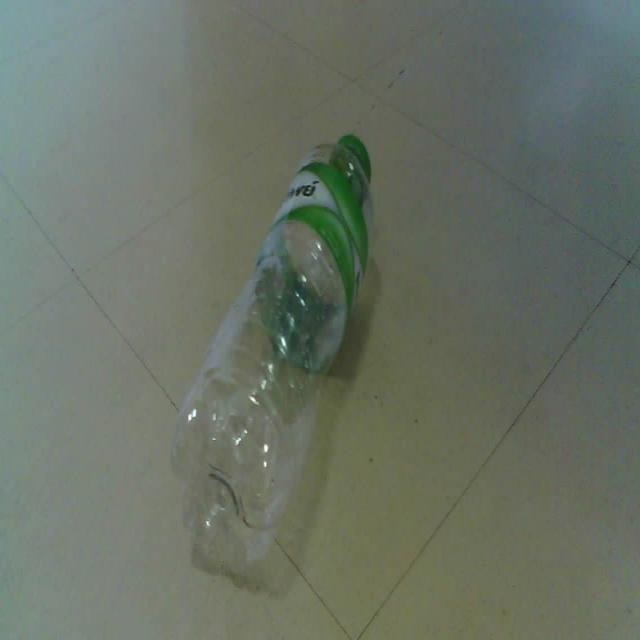empty: (171, 135, 373, 572)
